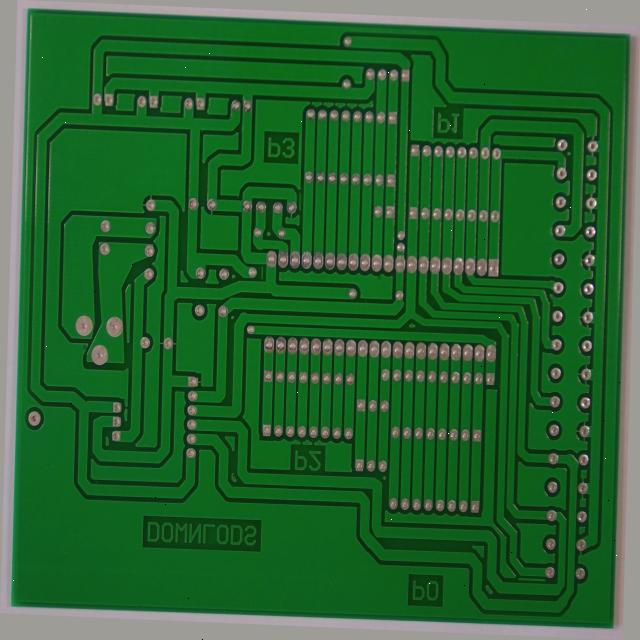spurious_copper: (530, 576, 560, 586), (292, 185, 300, 212), (255, 264, 263, 284)
